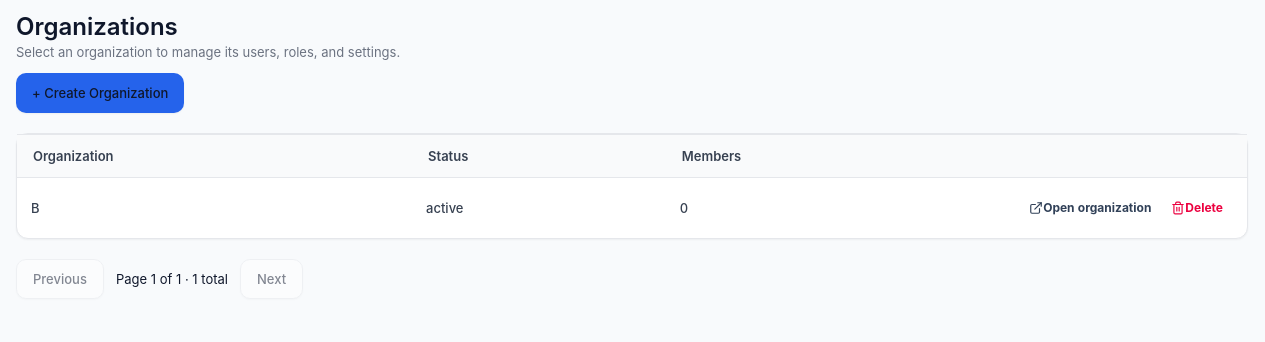
platform organization selection › keeps the current context when access validation fails
This screenshot has width=1265, height=342.
What coordinates should you click on to do the following:
click the button with aria-label "Open B"
I would click on:
 (1090, 208)
Its box is top-left (1021, 186), bottom-right (1159, 230).
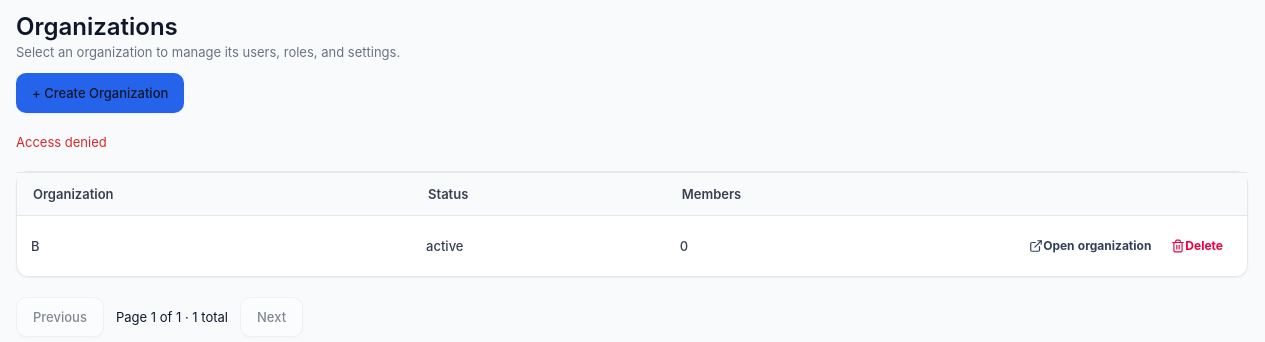
Now the message reads "Access denied", box top-left (16, 134), bottom-right (107, 150)
